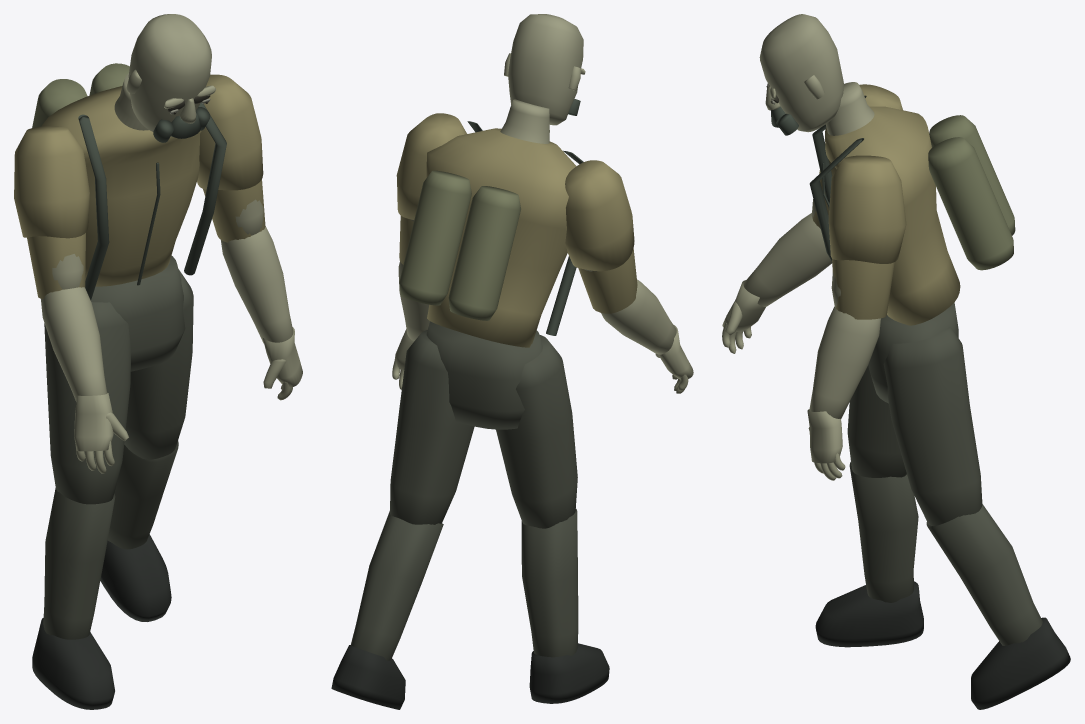
File: enemy-lab-poisoner.glb
3 views of the same model, side by side, from view 1: azimuth 30°, elevation 25°; view 2: azimuth 150°, elevation 25°; view 3: azimuth 270°, elevation 25° (orthographic). The views are drawn at different scales.
Visible parts, largest first — view 1: Chest, Trouser thigh_L, Trouser shin_L, Short sleeve_L, Anatomical head, Trouser thigh_R, Waist, Short sleeve_R, Forearm anatomy_L, Forearm anatomy_R, Shoe_L, Shoe_R (+14 smaller); view 2: Chest, Trouser thigh_R, Trouser thigh_L, Waist, Trouser shin_R, Trouser shin_L, Reagent tank_1, Reagent tank_-1, Short sleeve_L, Anatomical head, Shoe_L, Short sleeve_R (+7 smaller); view 3: Trouser thigh_R, Chest, Trouser shin_R, Short sleeve_R, Trouser shin_L, Anatomical head, Reagent tank_1, Shoe_L, Shoe_R, Forearm anatomy_R, Trouser thigh_L, Forearm anatomy_L (+9 smaller).
Part boxes in pixels (left/top/right/bottom): Chest: left=42, top=86, right=201, bottom=286; Trouser thigh_L: left=44, top=302, right=130, bottom=504; Trouser shin_L: left=43, top=487, right=115, bottom=639; Short sleeve_L: left=14, top=126, right=89, bottom=238; Anatomical head: left=128, top=14, right=211, bottom=131; Trouser thigh_R: left=124, top=269, right=193, bottom=459; Waist: left=91, top=255, right=185, bottom=371; Short sleeve_R: left=197, top=74, right=263, bottom=190; Forearm anatomy_L: left=41, top=287, right=107, bottom=401; Forearm anatomy_R: left=221, top=226, right=293, bottom=343; Shoe_L: left=32, top=618, right=114, bottom=709; Shoe_R: left=100, top=534, right=171, bottom=621; Chest: left=426, top=128, right=576, bottom=347; Trouser thigh_R: left=390, top=330, right=474, bottom=524; Trouser thigh_L: left=496, top=335, right=577, bottom=528; Waist: left=426, top=321, right=542, bottom=429; Trouser shin_R: left=351, top=511, right=443, bottom=660; Trouser shin_L: left=521, top=508, right=578, bottom=657; Reagent tank_1: left=399, top=170, right=471, bottom=305; Reagent tank_-1: left=448, top=186, right=520, bottom=320; Short sleeve_L: left=565, top=160, right=634, bottom=271; Anatomical head: left=508, top=14, right=583, bottom=125; Shoe_L: left=529, top=643, right=609, bottom=703; Short sleeve_R: left=396, top=113, right=466, bottom=219; Trouser thigh_R: left=883, top=327, right=982, bottom=526; Chest: left=825, top=106, right=960, bottom=325; Trouser shin_R: left=926, top=504, right=1042, bottom=645; Short sleeve_R: left=828, top=155, right=906, bottom=263; Trouser shin_L: left=849, top=462, right=918, bottom=602; Anatomical head: left=759, top=14, right=843, bottom=132; Reagent tank_1: left=928, top=137, right=1013, bottom=270; Shoe_L: left=815, top=581, right=923, bottom=647; Shoe_R: left=971, top=617, right=1070, bottom=709; Forearm anatomy_R: left=809, top=306, right=880, bottom=418; Trouser thigh_L: left=847, top=365, right=906, bottom=477; Forearm anatomy_L: left=743, top=213, right=832, bottom=306.
Size of the model in its own units: 0.6797 by 1.65 by 0.8002.
